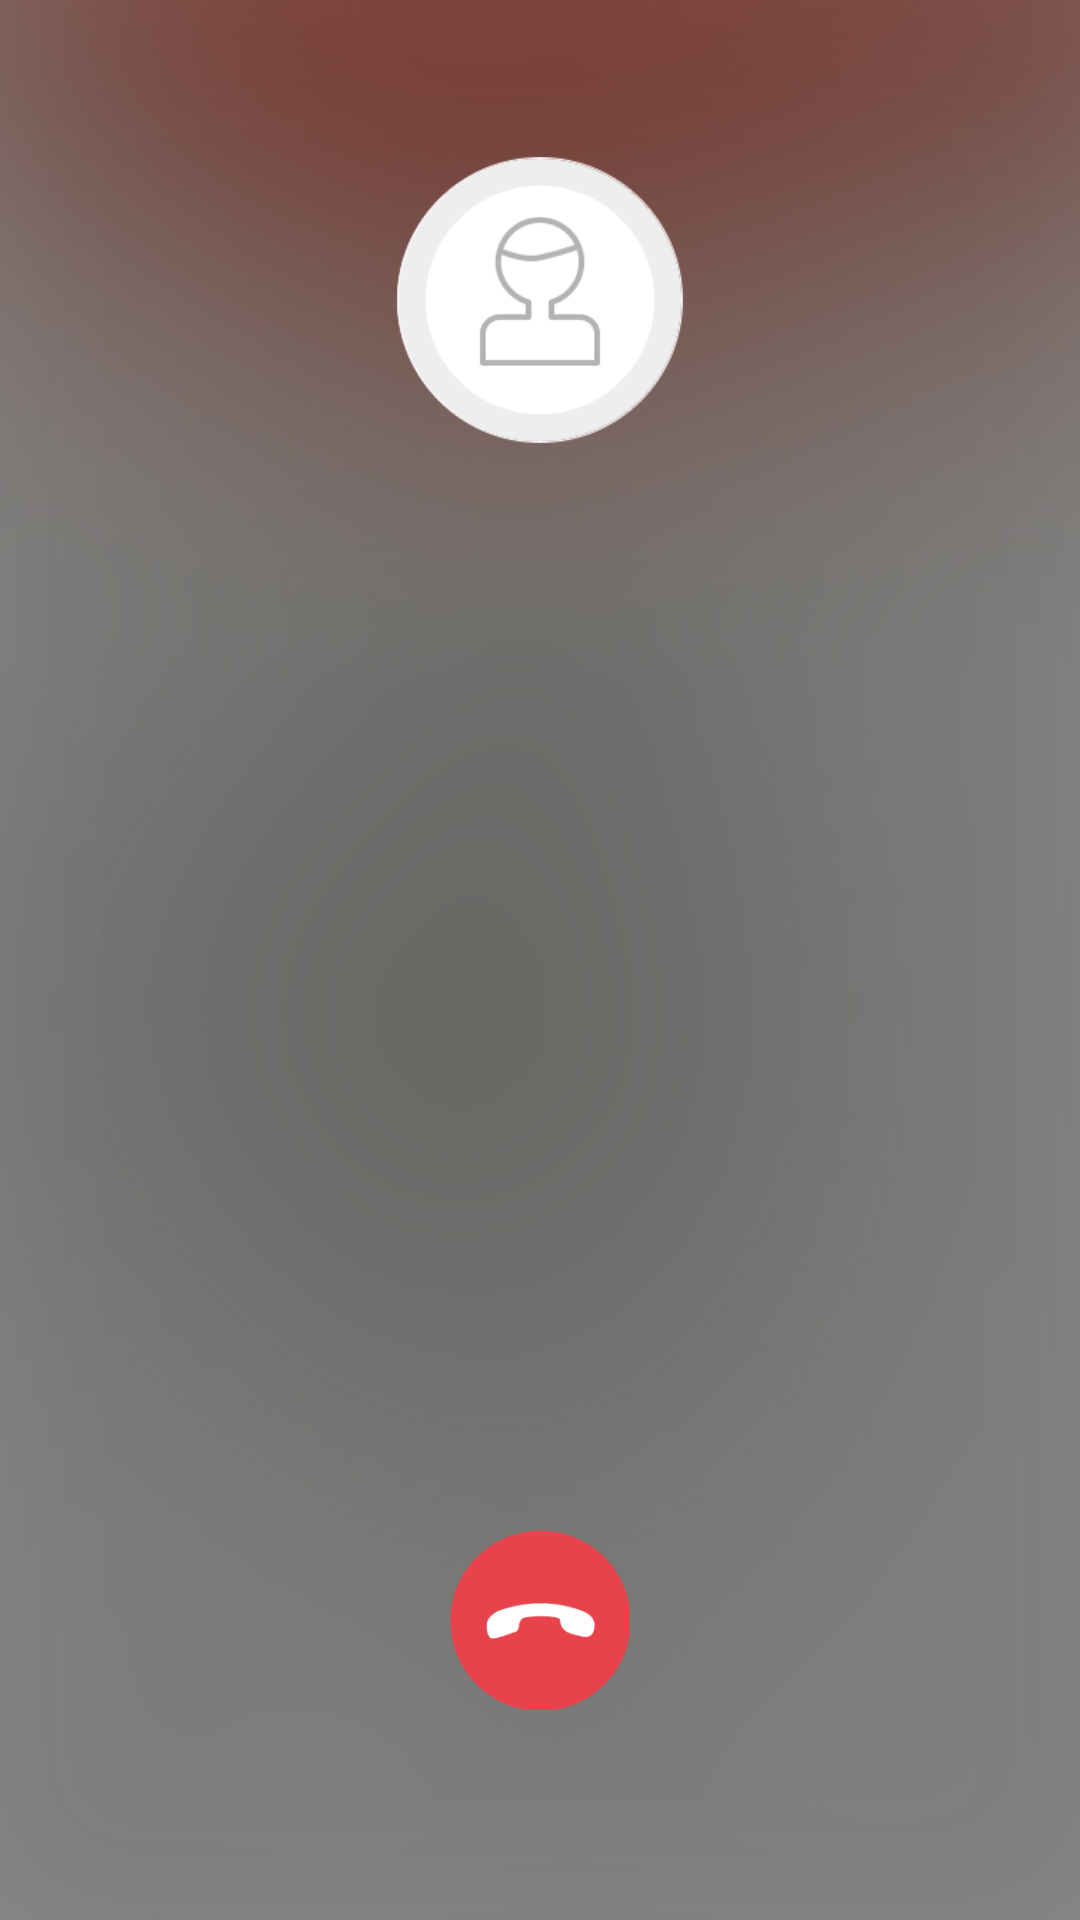

Icons on this 1080×1920 Android screen, each with its box as bbox=[x1, y1, x2, y2]:
chat photo: bbox=[390, 150, 690, 443]
ring handup: bbox=[450, 1530, 630, 1710]
